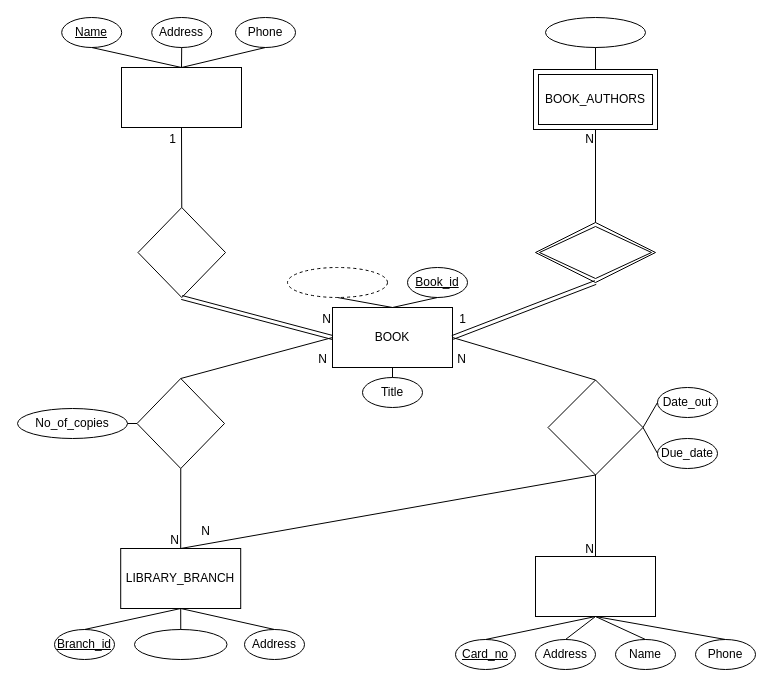
The diagram is 773 pixels wide and 687 high, and some of its shapes have lost their labels. Each missing label, with the centre of its shape:
"Author_name" goes at pixel 595 32.
"BOOK_COPIES" goes at pixel 180 423.
"BOOK_LOANS" goes at pixel 595 427.
"BORROWER" goes at pixel 595 586.
"Branch_name" goes at pixel 180 644.
"published by" goes at pixel 181 252.
"PUBLISHER" goes at pixel 181 97.
"Publisher_name" goes at pixel 337 282.
"written by" goes at pixel 595 252.
